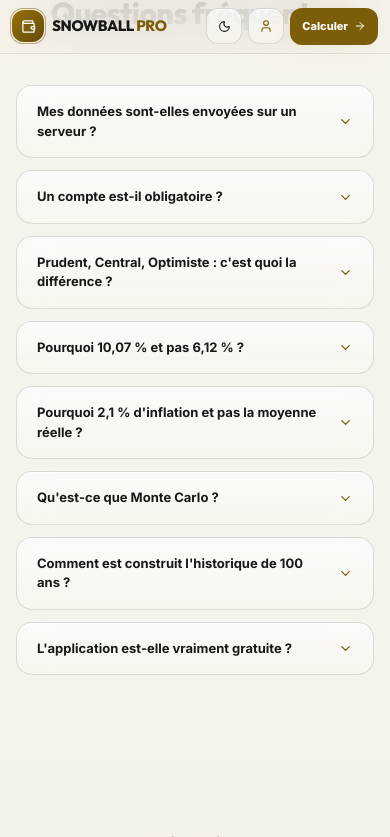
Scenario: v6.1 — landing page › FAQ : « Pourquoi 2,1 % d'inflation… » justifie l'hypothèse par la médiane
The width and height of the screenshot is (390, 837).
(page scrolled)
Click the button "Pourquoi 2,1 % d'inflation et pas la moyenne réelle ?": (195, 423) left=17, top=387, right=373, bottom=458
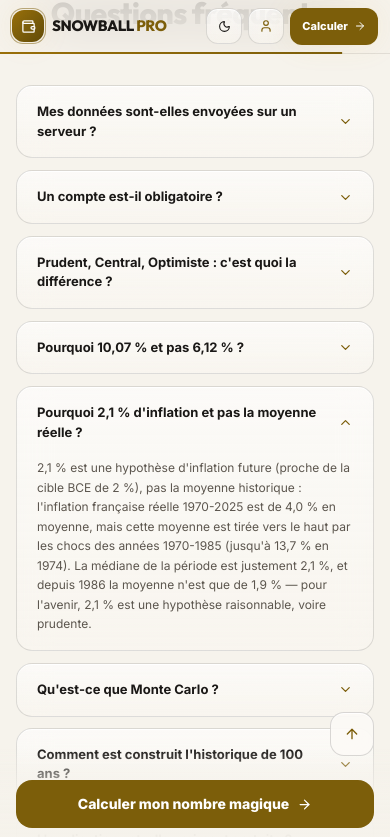
Expected: the button "Pourquoi 2,1 % d'inflation et pas la moyenne réelle ?" is expanded, left=17, top=387, right=373, bottom=458
Expected: the text "13,7 % en 1974" is shown, left=37, top=460, right=350, bottom=631
